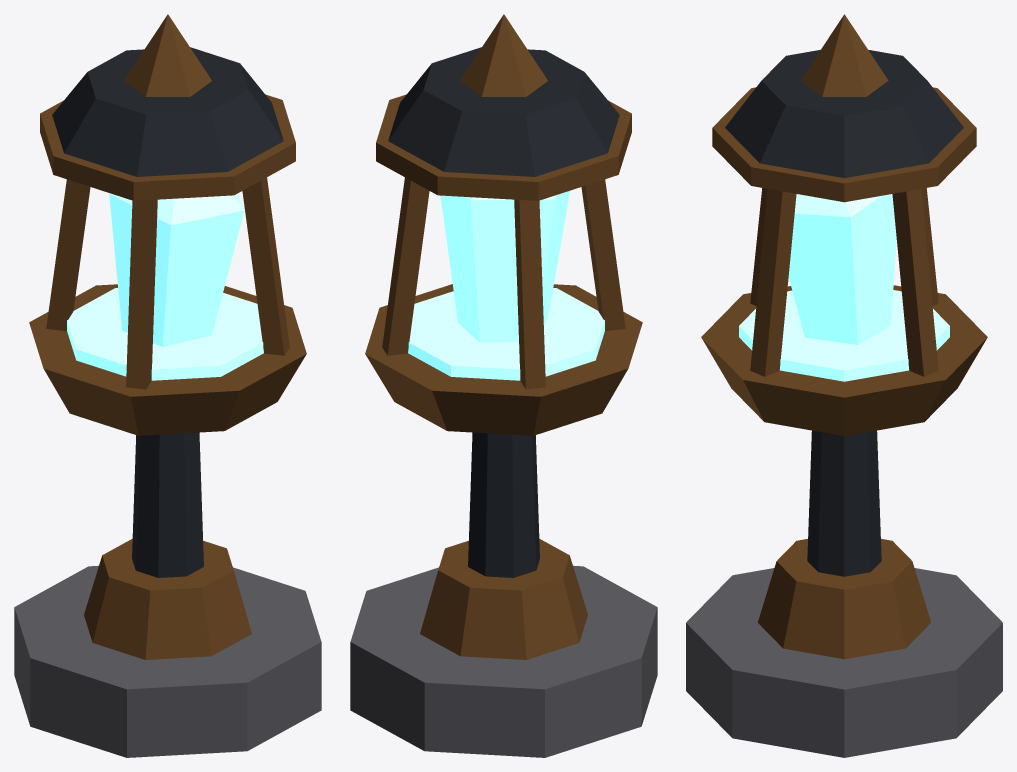
File: Soul_Lantern_Brazier.glb
The picture shows the model from 3 angles, left to right: view 1: azimuth 30°, elevation 25°; view 2: azimuth 150°, elevation 25°; view 3: azimuth 270°, elevation 25°; orthographic projection.
Parts seen in each view (by area): view 1: Soul_Lantern_Brazier; view 2: Soul_Lantern_Brazier; view 3: Soul_Lantern_Brazier.
Part boxes in pixels (x1,y1,x2,y2): Soul_Lantern_Brazier: (14,14,321,757); Soul_Lantern_Brazier: (350,14,657,757); Soul_Lantern_Brazier: (686,14,1002,757).
Bounding box in the file's own units: 0.84 × 1.98 × 0.84.
